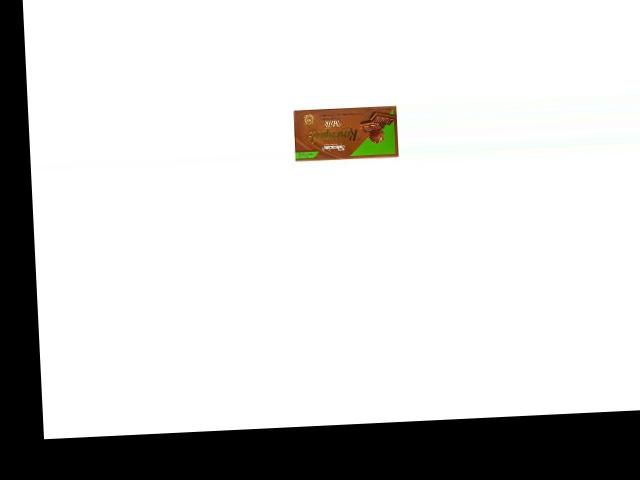chocolate: (289, 103, 400, 166)
